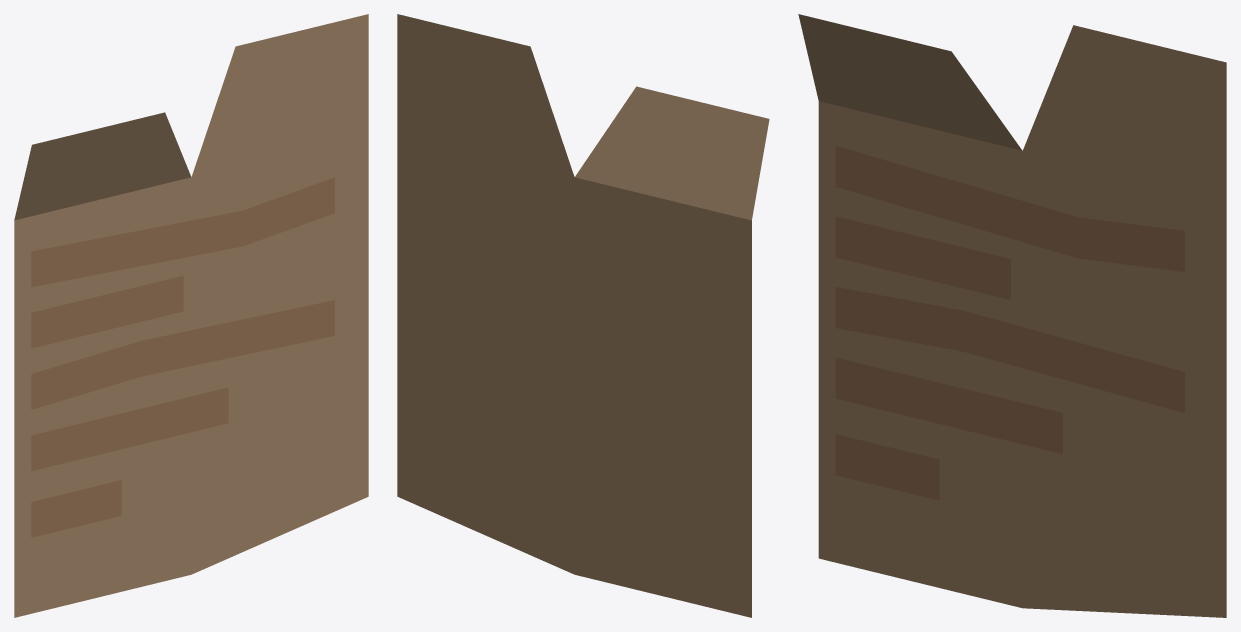
Rendered from SM_Note_B.gltf.
3 renders of one model, left to right at view 1: azimuth 30°, elevation 25°; view 2: azimuth 150°, elevation 25°; view 3: azimuth 330°, elevation 25°, orthographic. The views are drawn at different scales.
Parts seen in each view (by area): view 1: SM_Note_B; view 2: SM_Note_B; view 3: SM_Note_B.
Part boxes in pixels (bbox=[...]): SM_Note_B: bbox=[14, 14, 368, 617]; SM_Note_B: bbox=[397, 14, 769, 617]; SM_Note_B: bbox=[798, 14, 1226, 617].
Bounding box in the file's own units: 0.1864 × 0.26 × 0.0161.
1 material, 1 textured.
